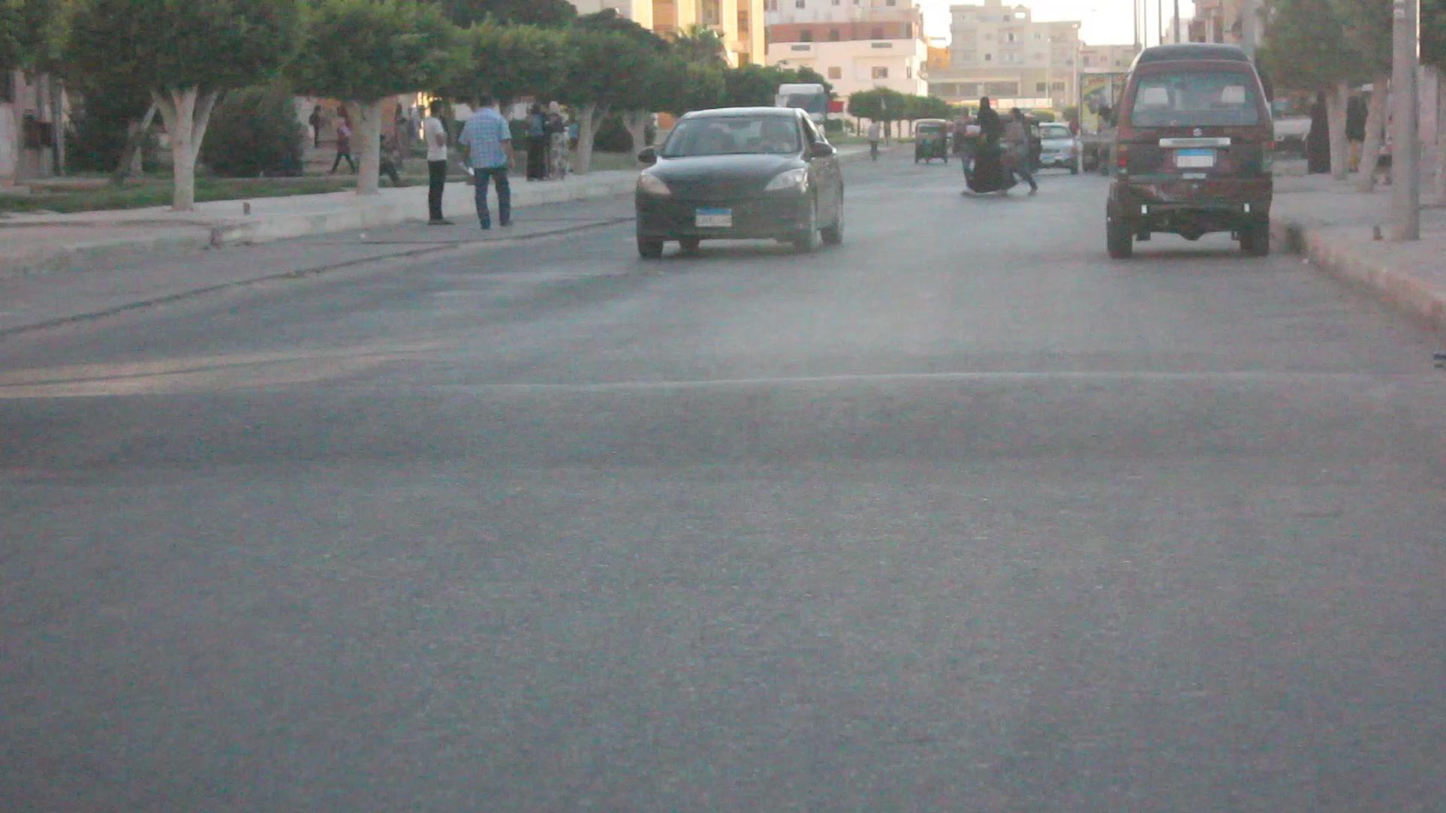Bump: (6, 388, 1446, 474)
